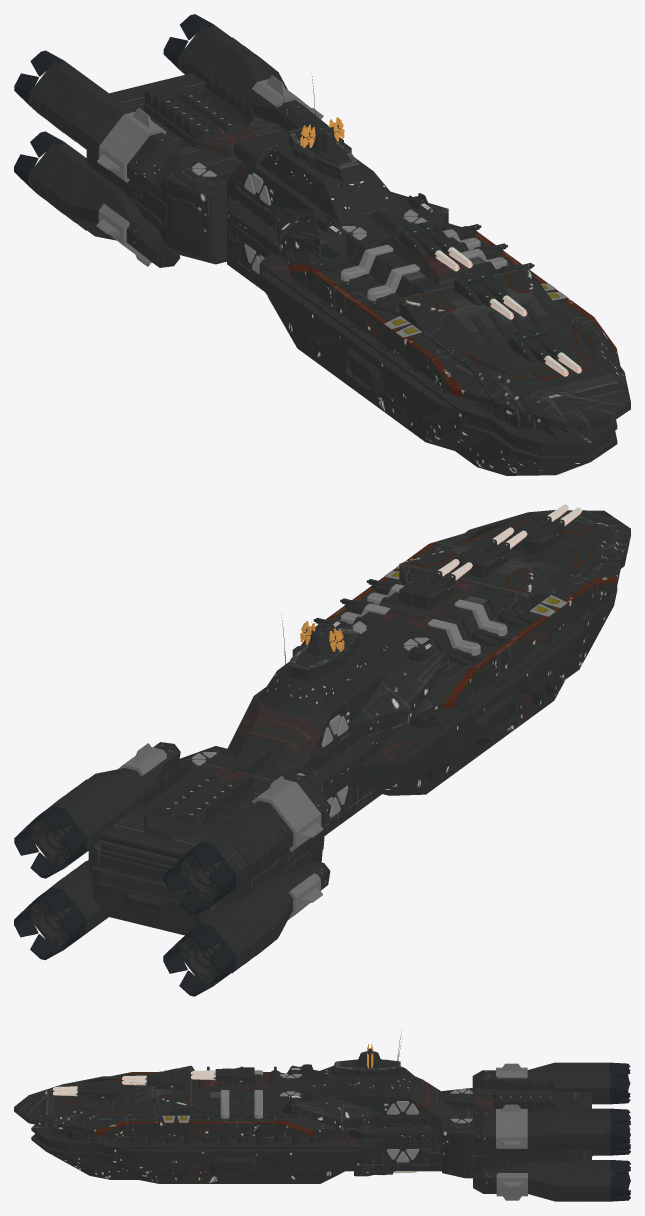
File: ship_korsanC.glb
3 renders of one model, top to bottom at view 1: azimuth 30°, elevation 25°; view 2: azimuth 150°, elevation 25°; view 3: azimuth 270°, elevation 25°, orthographic. The views are drawn at different scales.
Visible parts, largest first — view 1: Object364_body_0, Object378_body_0, Object399_body_0, engine002_parts_0, engine003_parts_0, Object239_parts_0, engine004_parts_0, Object363_body_0, Object375_body_0, Object312_body_0, missle002_parts_0, Object374_parts_0 (+6 smaller); view 2: Object364_body_0, Object378_body_0, Object399_body_0, engine002_parts_0, Object363_body_0, Object239_parts_0, engine003_parts_0, engine004_parts_0, engine005_parts_0, Object312_body_0, missle002_parts_0, Object375_body_0 (+8 smaller); view 3: Object364_body_0, Object378_body_0, Object399_body_0, engine004_parts_0, Object363_body_0, engine005_parts_0, Object239_parts_0, engine002_parts_0, Object374_parts_0, missle_door004_parts_0, Object312_body_0, missle002_parts_0 (+12 smaller).
Boxes of the visible parts, bbox=[...] form: Object364_body_0: bbox=[259, 192, 630, 475]; Object378_body_0: bbox=[88, 73, 597, 398]; Object399_body_0: bbox=[260, 223, 620, 422]; engine002_parts_0: bbox=[29, 60, 180, 189]; engine003_parts_0: bbox=[28, 141, 180, 267]; Object239_parts_0: bbox=[259, 73, 403, 224]; engine004_parts_0: bbox=[178, 24, 328, 131]; Object363_body_0: bbox=[227, 151, 553, 430]; Object375_body_0: bbox=[86, 149, 201, 240]; Object312_body_0: bbox=[144, 83, 253, 156]; missle002_parts_0: bbox=[159, 89, 247, 140]; Object374_parts_0: bbox=[227, 196, 286, 258]; Object364_body_0: bbox=[304, 510, 630, 795]; Object378_body_0: bbox=[88, 516, 597, 935]; Object399_body_0: bbox=[290, 533, 620, 775]; engine002_parts_0: bbox=[180, 774, 330, 902]; Object363_body_0: bbox=[227, 669, 408, 835]; Object239_parts_0: bbox=[259, 615, 403, 715]; engine003_parts_0: bbox=[180, 861, 330, 984]; engine004_parts_0: bbox=[31, 742, 180, 866]; engine005_parts_0: bbox=[30, 860, 108, 947]; Object312_body_0: bbox=[144, 768, 253, 840]; missle002_parts_0: bbox=[150, 773, 238, 824]; Object375_body_0: bbox=[216, 823, 324, 903]; Object364_body_0: bbox=[14, 1065, 383, 1183]; Object378_body_0: bbox=[62, 1068, 591, 1178]; Object399_body_0: bbox=[74, 1072, 361, 1166]; engine004_parts_0: bbox=[472, 1104, 615, 1150]; Object363_body_0: bbox=[62, 1077, 455, 1171]; engine005_parts_0: bbox=[473, 1160, 615, 1201]; Object239_parts_0: bbox=[297, 1033, 420, 1094]; engine002_parts_0: bbox=[472, 1062, 615, 1104]; Object374_parts_0: bbox=[348, 1127, 439, 1138]; missle_door004_parts_0: bbox=[496, 1081, 554, 1093]; Object312_body_0: bbox=[472, 1093, 578, 1112]; missle002_parts_0: bbox=[494, 1093, 557, 1109].
Size of the model in its own units: 0.9097 by 0.954 by 3.56.
Materials: 2 (2 with a texture image).
